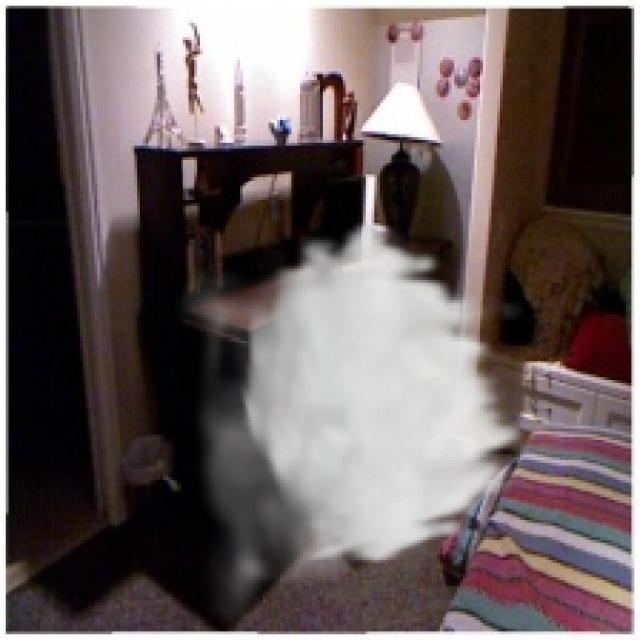smoke: (172, 217, 534, 637)
